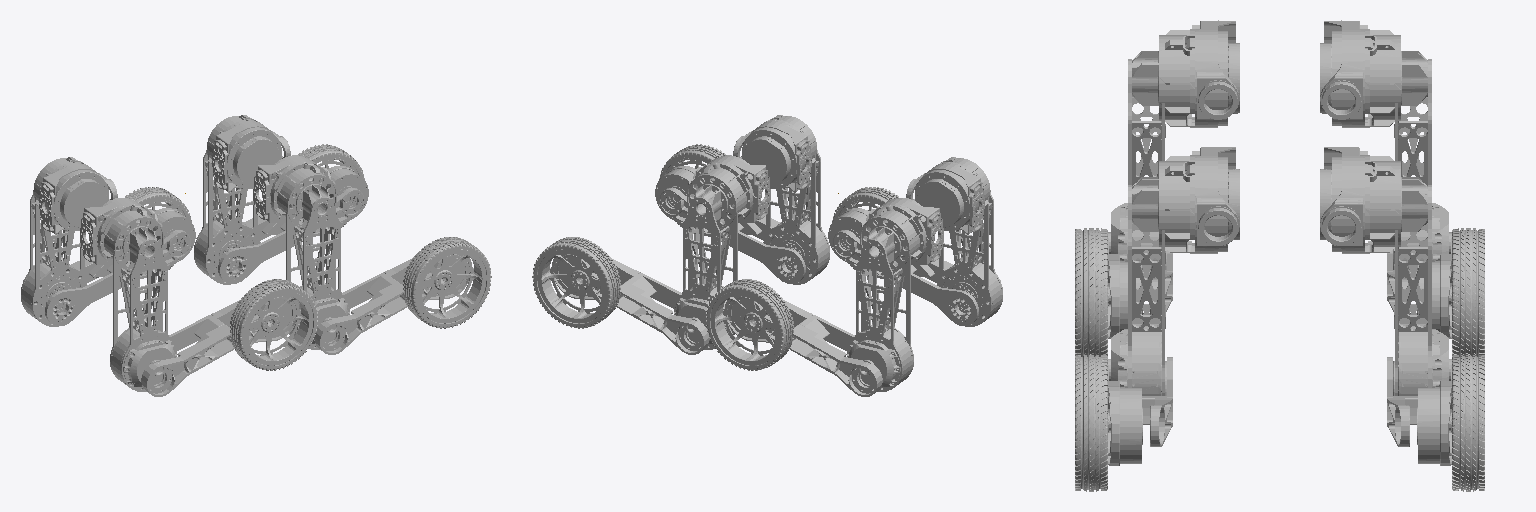
robot.urdf — wl4v3_description:
<?xml version="1.0" ?>
<!-- =================================================================================== -->
<!-- |    This document was autogenerated by xacro from src/robot_descriptions/wl4v3_description/xacro/robot.xacro | -->
<!-- |    EDITING THIS FILE BY HAND IS NOT RECOMMENDED                                 | -->
<!-- =================================================================================== -->
<robot name="wl4v3_description">
  <link name="base_link">
    <visual>
      <origin rpy="0 0 0" xyz="0 0 0"/>
      <geometry>
        <box size="0.001 0.001 0.001"/>
      </geometry>
    </visual>
    <inertial>
      <mass value="0.001"/>
      <origin rpy="0 0 0" xyz="0 0 0"/>
      <inertia ixx="0.0001" ixy="0" ixz="0" iyy="0.0001" iyz="0" izz="0.0001"/>
    </inertial>
  </link>
  <link name="F_base_link">
    <inertial>
      <origin rpy="0 0 0" xyz="0.023013 -0.0021227 -0.019381"/>
      <mass value="12.648"/>
      <inertia ixx="0.093399" ixy="-0.003506" ixz="-0.004065" iyy="0.228142" iyz="0.000651" izz="0.215983"/>
    </inertial>
    <visual>
      <origin rpy="0 0 0" xyz="0 0 0"/>
      <geometry>
        <mesh filename="../meshes/single_base_link.STL"/>
      </geometry>
      <material name="">
        <color rgba="0.75294 0.75294 0.75294 1"/>
      </material>
    </visual>
    <collision>
      <origin rpy="0 0 0" xyz="0 0 0"/>
      <geometry>
        <box size="0.375 0.15 0.19"/>
      </geometry>
    </collision>
    <collision>
      <origin rpy="0 0 0" xyz="0 0 -0.12"/>
      <geometry>
        <box size="0.31 0.12 0.04"/>
      </geometry>
    </collision>
  </link>
  <joint name="F_base_joint" type="fixed">
    <origin rpy="0 0 0" xyz="0.1875 0 0"/>
    <parent link="base_link"/>
    <child link="F_base_link"/>
    <axis xyz="0 0 0"/>
  </joint>
  <link name="FL_hip">
    <inertial>
      <origin rpy="0 0 0" xyz="-0.014145 6.1243E-05 0.0053964"/>
      <mass value="1.6985"/>
      <inertia ixx="0.003424" ixy="0" ixz="-0.000109" iyy="0.002403" iyz="-1E-06" izz="0.00188"/>
    </inertial>
    <visual>
      <origin rpy="0 0 0" xyz="0 0 0"/>
      <geometry>
        <mesh filename="../meshes/L_hip.STL"/>
      </geometry>
      <material name="">
        <color rgba="0.75294 0.75294 0.75294 1"/>
      </material>
    </visual>
  </link>
  <joint name="FL_hip_joint" type="revolute">
    <origin rpy="1.5708 0 1.5708" xyz="0 0.0775 0"/>
    <parent link="F_base_link"/>
    <child link="FL_hip"/>
    <axis xyz="0 0 1"/>
    <dynamics damping="0" friction="0"/>
    <limit effort="80" lower="-0.7853981633974483" upper="0.7853981633974483" velocity="15"/>
  </joint>
  <link name="FL_thigh">
    <inertial>
      <origin rpy="0 0 0" xyz="0.035356 0.0049257 -0.024803"/>
      <mass value="3.2263"/>
      <inertia ixx="0.005784" ixy="-0.001581" ixz="-0.002732" iyy="0.021768" iyz="-0.000297" izz="0.022595"/>
    </inertial>
    <visual>
      <origin rpy="0 0 0" xyz="0 0 0"/>
      <geometry>
        <mesh filename="../meshes/L_thigh.STL"/>
      </geometry>
      <material name="">
        <color rgba="0.75294 0.75294 0.75294 1"/>
      </material>
    </visual>
    <collision>
      <origin rpy="0 0 0.262" xyz="0.05 0 0"/>
      <geometry>
        <box size="0.21 0.11 0.05"/>
      </geometry>
    </collision>
  </link>
  <joint name="FL_thigh_joint" type="revolute">
    <origin rpy="-1.5708 0 -1.5708" xyz="0.09 0 0"/>
    <parent link="FL_hip"/>
    <child link="FL_thigh"/>
    <axis xyz="0 0 1"/>
    <dynamics damping="0" friction="0"/>
    <limit effort="80" lower="-1.5707963267948966" upper="3.141592653589793" velocity="15"/>
  </joint>
  <link name="FL_calf">
    <inertial>
      <origin rpy="0 0 0" xyz="0.11782 0.0051831 0.012648"/>
      <mass value="0.48008"/>
      <inertia ixx="0.000304" ixy="0.000116" ixz="-0.000582" iyy="0.005483" iyz="1.5E-05" izz="0.005541"/>
    </inertial>
    <visual>
      <origin rpy="0 0 0" xyz="0 0 0"/>
      <geometry>
        <mesh filename="../meshes/L_calf.STL"/>
      </geometry>
      <material name="">
        <color rgba="0.75294 0.75294 0.75294 1"/>
      </material>
    </visual>
    <collision>
      <origin rpy="0 0 -0.08" xyz="0.12 0 0"/>
      <geometry>
        <box size="0.3 0.05 0.02"/>
      </geometry>
    </collision>
  </link>
  <joint name="FL_calf_joint" type="revolute">
    <origin rpy="0 0 0" xyz="0.25 0 0"/>
    <parent link="FL_thigh"/>
    <child link="FL_calf"/>
    <axis xyz="0 0 1"/>
    <dynamics damping="0" friction="0"/>
    <limit effort="80" lower="-2.775" upper="-0.855" velocity="15"/>
  </joint>
  <link name="FL_foot">
    <inertial>
      <origin rpy="0 0 0" xyz="-1.1947E-05 -1.9864E-05 -0.0036281"/>
      <mass value="1.5215"/>
      <inertia ixx="0.002334" ixy="0" ixz="-1e-06" iyy="0.002334" iyz="-1e-06" izz="0.004146"/>
    </inertial>
    <visual>
      <origin rpy="0 0 0" xyz="0 0 0"/>
      <geometry>
        <mesh filename="../meshes/L_foot.STL"/>
      </geometry>
      <material name="">
        <color rgba="0.75294 0.75294 0.75294 1"/>
      </material>
    </visual>
    <collision>
      <origin rpy="0 0 0" xyz="0 0 0"/>
      <geometry>
        <cylinder length="0.04" radius="0.085"/>
      </geometry>
    </collision>
  </link>
  <joint name="FL_foot_joint" type="revolute">
    <origin rpy="0 0 0" xyz="0.25 0 0.06935"/>
    <parent link="FL_calf"/>
    <child link="FL_foot"/>
    <axis xyz="0 0 1"/>
    <dynamics damping="0" friction="0"/>
    <limit effort="20" lower="-1000000.0" upper="1000000.0" velocity="25"/>
  </joint>
  <link name="FR_hip">
    <inertial>
      <origin rpy="0 0 0" xyz="0.014145 6.1222E-05 0.0053964"/>
      <mass value="1.6985"/>
      <inertia ixx="0.003424" ixy="0" ixz="0.000109" iyy="0.002403" iyz="-1e-06" izz="0.00188"/>
    </inertial>
    <visual>
      <origin rpy="0 0 0" xyz="0 0 0"/>
      <geometry>
        <mesh filename="../meshes/R_hip.STL"/>
      </geometry>
      <material name="">
        <color rgba="0.75294 0.75294 0.75294 1"/>
      </material>
    </visual>
  </link>
  <joint name="FR_hip_joint" type="revolute">
    <origin rpy="1.5708 0 1.5708" xyz="0 -0.0775 0"/>
    <parent link="F_base_link"/>
    <child link="FR_hip"/>
    <axis xyz="0 0 1"/>
    <dynamics damping="0" friction="0"/>
    <limit effort="80" lower="-0.7853981633974483" upper="0.7853981633974483" velocity="15"/>
  </joint>
  <link name="FR_thigh">
    <inertial>
      <origin rpy="0 0 0" xyz="0.035356 0.0049257 0.024803"/>
      <mass value="3.2263"/>
      <inertia ixx="0.005784" ixy="-0.001581" ixz="0.002732" iyy="0.021768" iyz="0.000297" izz="0.022595"/>
    </inertial>
    <visual>
      <origin rpy="0 0 0" xyz="0 0 0"/>
      <geometry>
        <mesh filename="../meshes/R_thigh.STL"/>
      </geometry>
      <material name="">
        <color rgba="0.75294 0.75294 0.75294 1"/>
      </material>
    </visual>
    <collision>
      <origin rpy="0 0 0.262" xyz="0.05 0 0"/>
      <geometry>
        <box size="0.21 0.11 0.05"/>
      </geometry>
    </collision>
  </link>
  <joint name="FR_thigh_joint" type="revolute">
    <origin rpy="-1.5708 0 -1.5708" xyz="-0.09 0 0"/>
    <parent link="FR_hip"/>
    <child link="FR_thigh"/>
    <axis xyz="0 0 1"/>
    <dynamics damping="0" friction="0"/>
    <limit effort="80" lower="-1.5707963267948966" upper="3.141592653589793" velocity="15"/>
  </joint>
  <link name="FR_calf">
    <inertial>
      <origin rpy="0 0 0" xyz="0.11782 0.0051831 -0.012648"/>
      <mass value="0.48008"/>
      <inertia ixx="0.000304" ixy="0.000116" ixz="0.000582" iyy="0.005483" iyz="-1.5e-05" izz="0.005541"/>
    </inertial>
    <visual>
      <origin rpy="0 0 0" xyz="0 0 0"/>
      <geometry>
        <mesh filename="../meshes/R_calf.STL"/>
      </geometry>
      <material name="">
        <color rgba="0.75294 0.75294 0.75294 1"/>
      </material>
    </visual>
    <collision>
      <origin rpy="0 0 -0.08" xyz="0.12 0 0"/>
      <geometry>
        <box size="0.3 0.05 0.02"/>
      </geometry>
    </collision>
  </link>
  <joint name="FR_calf_joint" type="revolute">
    <origin rpy="0 0 0" xyz="0.25 0 0"/>
    <parent link="FR_thigh"/>
    <child link="FR_calf"/>
    <axis xyz="0 0 1"/>
    <dynamics damping="0" friction="0"/>
    <limit effort="80" lower="-2.775" upper="-0.855" velocity="15"/>
  </joint>
  <link name="FR_foot">
    <inertial>
      <origin rpy="0 0 0" xyz="-1.1939E-05 -1.986E-05 0.0036281"/>
      <mass value="1.5215"/>
      <inertia ixx="0.002334" ixy="0" ixz="1e-06" iyy="0.002334" iyz="1e-06" izz="0.004146"/>
    </inertial>
    <visual>
      <origin rpy="0 0 0" xyz="0 0 0"/>
      <geometry>
        <mesh filename="../meshes/R_foot.STL"/>
      </geometry>
      <material name="">
        <color rgba="0.75294 0.75294 0.75294 1"/>
      </material>
    </visual>
    <collision>
      <origin rpy="0 0 0" xyz="0 0 0"/>
      <geometry>
        <cylinder length="0.04" radius="0.085"/>
      </geometry>
    </collision>
  </link>
  <joint name="FR_foot_joint" type="revolute">
    <origin rpy="0 0 0" xyz="0.25 0 -0.06935"/>
    <parent link="FR_calf"/>
    <child link="FR_foot"/>
    <axis xyz="0 0 1"/>
    <dynamics damping="0" friction="0"/>
    <limit effort="20" lower="-1000000.0" upper="1000000.0" velocity="25"/>
  </joint>
  <link name="R_base_link">
    <inertial>
      <origin rpy="0 0 0" xyz="0.023013 -0.0021227 -0.019381"/>
      <mass value="12.648"/>
      <inertia ixx="0.093399" ixy="-0.003506" ixz="-0.004065" iyy="0.228142" iyz="0.000651" izz="0.215983"/>
    </inertial>
    <visual>
      <origin rpy="0 0 0" xyz="0 0 0"/>
      <geometry>
        <mesh filename="../meshes/single_base_link.STL"/>
      </geometry>
      <material name="">
        <color rgba="0.75294 0.75294 0.75294 1"/>
      </material>
    </visual>
    <collision>
      <origin rpy="0 0 0" xyz="0 0 0"/>
      <geometry>
        <box size="0.375 0.15 0.19"/>
      </geometry>
    </collision>
    <collision>
      <origin rpy="0 0 0" xyz="0 0 -0.12"/>
      <geometry>
        <box size="0.31 0.12 0.04"/>
      </geometry>
    </collision>
  </link>
  <joint name="R_base_joint" type="fixed">
    <origin rpy="0 0 0" xyz="-0.1875 0 0"/>
    <parent link="base_link"/>
    <child link="R_base_link"/>
    <axis xyz="0 0 0"/>
  </joint>
  <link name="RL_hip">
    <inertial>
      <origin rpy="0 0 0" xyz="-0.014145 6.1243E-05 0.0053964"/>
      <mass value="1.6985"/>
      <inertia ixx="0.003424" ixy="0" ixz="-0.000109" iyy="0.002403" iyz="-1E-06" izz="0.00188"/>
    </inertial>
    <visual>
      <origin rpy="0 0 0" xyz="0 0 0"/>
      <geometry>
        <mesh filename="../meshes/L_hip.STL"/>
      </geometry>
      <material name="">
        <color rgba="0.75294 0.75294 0.75294 1"/>
      </material>
    </visual>
  </link>
  <joint name="RL_hip_joint" type="revolute">
    <origin rpy="1.5708 0 1.5708" xyz="0 0.0775 0"/>
    <parent link="R_base_link"/>
    <child link="RL_hip"/>
    <axis xyz="0 0 1"/>
    <dynamics damping="0" friction="0"/>
    <limit effort="80" lower="-0.7853981633974483" upper="0.7853981633974483" velocity="15"/>
  </joint>
  <link name="RL_thigh">
    <inertial>
      <origin rpy="0 0 0" xyz="0.035356 0.0049257 -0.024803"/>
      <mass value="3.2263"/>
      <inertia ixx="0.005784" ixy="-0.001581" ixz="-0.002732" iyy="0.021768" iyz="-0.000297" izz="0.022595"/>
    </inertial>
    <visual>
      <origin rpy="0 0 0" xyz="0 0 0"/>
      <geometry>
        <mesh filename="../meshes/L_thigh.STL"/>
      </geometry>
      <material name="">
        <color rgba="0.75294 0.75294 0.75294 1"/>
      </material>
    </visual>
    <collision>
      <origin rpy="0 0 0.262" xyz="0.05 0 0"/>
      <geometry>
        <box size="0.21 0.11 0.05"/>
      </geometry>
    </collision>
  </link>
  <joint name="RL_thigh_joint" type="revolute">
    <origin rpy="-1.5708 0 -1.5708" xyz="0.09 0 0"/>
    <parent link="RL_hip"/>
    <child link="RL_thigh"/>
    <axis xyz="0 0 1"/>
    <dynamics damping="0" friction="0"/>
    <limit effort="80" lower="-1.5707963267948966" upper="3.141592653589793" velocity="15"/>
  </joint>
  <link name="RL_calf">
    <inertial>
      <origin rpy="0 0 0" xyz="0.11782 0.0051831 0.012648"/>
      <mass value="0.48008"/>
      <inertia ixx="0.000304" ixy="0.000116" ixz="-0.000582" iyy="0.005483" iyz="1.5E-05" izz="0.005541"/>
    </inertial>
    <visual>
      <origin rpy="0 0 0" xyz="0 0 0"/>
      <geometry>
        <mesh filename="../meshes/L_calf.STL"/>
      </geometry>
      <material name="">
        <color rgba="0.75294 0.75294 0.75294 1"/>
      </material>
    </visual>
    <collision>
      <origin rpy="0 0 -0.08" xyz="0.12 0 0"/>
      <geometry>
        <box size="0.3 0.05 0.02"/>
      </geometry>
    </collision>
  </link>
  <joint name="RL_calf_joint" type="revolute">
    <origin rpy="0 0 0" xyz="0.25 0 0"/>
    <parent link="RL_thigh"/>
    <child link="RL_calf"/>
    <axis xyz="0 0 1"/>
    <dynamics damping="0" friction="0"/>
    <limit effort="80" lower="-2.775" upper="-0.855" velocity="15"/>
  </joint>
  <link name="RL_foot">
    <inertial>
      <origin rpy="0 0 0" xyz="-1.1947E-05 -1.9864E-05 -0.0036281"/>
      <mass value="1.5215"/>
      <inertia ixx="0.002334" ixy="0" ixz="-1e-06" iyy="0.002334" iyz="-1e-06" izz="0.004146"/>
    </inertial>
    <visual>
      <origin rpy="0 0 0" xyz="0 0 0"/>
      <geometry>
        <mesh filename="../meshes/L_foot.STL"/>
      </geometry>
      <material name="">
        <color rgba="0.75294 0.75294 0.75294 1"/>
      </material>
    </visual>
    <collision>
      <origin rpy="0 0 0" xyz="0 0 0"/>
      <geometry>
        <cylinder length="0.04" radius="0.085"/>
      </geometry>
    </collision>
  </link>
  <joint name="RL_foot_joint" type="revolute">
    <origin rpy="0 0 0" xyz="0.25 0 0.06935"/>
    <parent link="RL_calf"/>
    <child link="RL_foot"/>
    <axis xyz="0 0 1"/>
    <dynamics damping="0" friction="0"/>
    <limit effort="20" lower="-1000000.0" upper="1000000.0" velocity="25"/>
  </joint>
  <link name="RR_hip">
    <inertial>
      <origin rpy="0 0 0" xyz="0.014145 6.1222E-05 0.0053964"/>
      <mass value="1.6985"/>
      <inertia ixx="0.003424" ixy="0" ixz="0.000109" iyy="0.002403" iyz="-1e-06" izz="0.00188"/>
    </inertial>
    <visual>
      <origin rpy="0 0 0" xyz="0 0 0"/>
      <geometry>
        <mesh filename="../meshes/R_hip.STL"/>
      </geometry>
      <material name="">
        <color rgba="0.75294 0.75294 0.75294 1"/>
      </material>
    </visual>
  </link>
  <joint name="RR_hip_joint" type="revolute">
    <origin rpy="1.5708 0 1.5708" xyz="0 -0.0775 0"/>
    <parent link="R_base_link"/>
    <child link="RR_hip"/>
    <axis xyz="0 0 1"/>
    <dynamics damping="0" friction="0"/>
    <limit effort="80" lower="-0.7853981633974483" upper="0.7853981633974483" velocity="15"/>
  </joint>
  <link name="RR_thigh">
    <inertial>
      <origin rpy="0 0 0" xyz="0.035356 0.0049257 0.024803"/>
      <mass value="3.2263"/>
      <inertia ixx="0.005784" ixy="-0.001581" ixz="0.002732" iyy="0.021768" iyz="0.000297" izz="0.022595"/>
    </inertial>
    <visual>
      <origin rpy="0 0 0" xyz="0 0 0"/>
      <geometry>
        <mesh filename="../meshes/R_thigh.STL"/>
      </geometry>
      <material name="">
        <color rgba="0.75294 0.75294 0.75294 1"/>
      </material>
    </visual>
    <collision>
      <origin rpy="0 0 0.262" xyz="0.05 0 0"/>
      <geometry>
        <box size="0.21 0.11 0.05"/>
      </geometry>
    </collision>
  </link>
  <joint name="RR_thigh_joint" type="revolute">
    <origin rpy="-1.5708 0 -1.5708" xyz="-0.09 0 0"/>
    <parent link="RR_hip"/>
    <child link="RR_thigh"/>
    <axis xyz="0 0 1"/>
    <dynamics damping="0" friction="0"/>
    <limit effort="80" lower="-1.5707963267948966" upper="3.141592653589793" velocity="15"/>
  </joint>
  <link name="RR_calf">
    <inertial>
      <origin rpy="0 0 0" xyz="0.11782 0.0051831 -0.012648"/>
      <mass value="0.48008"/>
      <inertia ixx="0.000304" ixy="0.000116" ixz="0.000582" iyy="0.005483" iyz="-1.5e-05" izz="0.005541"/>
    </inertial>
    <visual>
      <origin rpy="0 0 0" xyz="0 0 0"/>
      <geometry>
        <mesh filename="../meshes/R_calf.STL"/>
      </geometry>
      <material name="">
        <color rgba="0.75294 0.75294 0.75294 1"/>
      </material>
    </visual>
    <collision>
      <origin rpy="0 0 -0.08" xyz="0.12 0 0"/>
      <geometry>
        <box size="0.3 0.05 0.02"/>
      </geometry>
    </collision>
  </link>
  <joint name="RR_calf_joint" type="revolute">
    <origin rpy="0 0 0" xyz="0.25 0 0"/>
    <parent link="RR_thigh"/>
    <child link="RR_calf"/>
    <axis xyz="0 0 1"/>
    <dynamics damping="0" friction="0"/>
    <limit effort="80" lower="-2.775" upper="-0.855" velocity="15"/>
  </joint>
  <link name="RR_foot">
    <inertial>
      <origin rpy="0 0 0" xyz="-1.1939E-05 -1.986E-05 0.0036281"/>
      <mass value="1.5215"/>
      <inertia ixx="0.002334" ixy="0" ixz="1e-06" iyy="0.002334" iyz="1e-06" izz="0.004146"/>
    </inertial>
    <visual>
      <origin rpy="0 0 0" xyz="0 0 0"/>
      <geometry>
        <mesh filename="../meshes/R_foot.STL"/>
      </geometry>
      <material name="">
        <color rgba="0.75294 0.75294 0.75294 1"/>
      </material>
    </visual>
    <collision>
      <origin rpy="0 0 0" xyz="0 0 0"/>
      <geometry>
        <cylinder length="0.04" radius="0.085"/>
      </geometry>
    </collision>
  </link>
  <joint name="RR_foot_joint" type="revolute">
    <origin rpy="0 0 0" xyz="0.25 0 -0.06935"/>
    <parent link="RR_calf"/>
    <child link="RR_foot"/>
    <axis xyz="0 0 1"/>
    <dynamics damping="0" friction="0"/>
    <limit effort="20" lower="-1000000.0" upper="1000000.0" velocity="25"/>
  </joint>
</robot>

--- Render facts (derived) ---
3 views of the same robot in one strip: view 1: azimuth 30°, elevation 25°; view 2: azimuth 150°, elevation 25°; view 3: azimuth 270°, elevation 25° (orthographic).
Robot: wl4v3_description — 19 links, 18 joints (16 revolute, 2 fixed); root link base_link; default pose: all joints at 0 but 4 set to mid-range because 0 is outside their limits (FL_calf_joint = -1.81, FR_calf_joint = -1.81, RL_calf_joint = -1.81, RR_calf_joint = -1.81).
Visible links, largest first — view 1: RR_thigh, FR_thigh, FR_foot, RR_foot, RR_calf, FR_calf, FL_hip, RL_hip, FL_thigh, RL_thigh, FL_calf, RL_calf (+4 smaller); view 2: RL_thigh, FL_thigh, FL_foot, RL_foot, RL_calf, FL_calf, FR_hip, RR_hip, FR_thigh, RR_thigh, FR_calf, RR_calf (+4 smaller); view 3: FL_thigh, FR_thigh, FL_hip, FR_hip, RL_hip, RR_hip, RL_thigh, RR_thigh, FL_foot, FR_foot, FL_calf, FR_calf (+4 smaller).
Boxes of the visible links, bbox=[...] form: RR_thigh: bbox=[110, 218, 176, 391]; FR_thigh: bbox=[286, 176, 349, 349]; FR_foot: bbox=[403, 237, 491, 328]; RR_foot: bbox=[230, 279, 317, 370]; RR_calf: bbox=[141, 296, 298, 396]; FR_calf: bbox=[314, 254, 471, 354]; FL_hip: bbox=[207, 115, 290, 192]; RL_hip: bbox=[33, 157, 117, 234]; FL_thigh: bbox=[194, 150, 260, 284]; RL_thigh: bbox=[21, 192, 86, 326]; FL_calf: bbox=[218, 166, 368, 283]; RL_calf: bbox=[45, 208, 195, 325]; RL_thigh: bbox=[847, 218, 913, 391]; FL_thigh: bbox=[674, 176, 737, 349]; FL_foot: bbox=[532, 237, 620, 328]; RL_foot: bbox=[706, 279, 793, 370]; RL_calf: bbox=[725, 296, 882, 396]; FL_calf: bbox=[552, 254, 709, 354]; FR_hip: bbox=[733, 115, 816, 192]; RR_hip: bbox=[906, 157, 990, 234]; FR_thigh: bbox=[763, 150, 829, 284]; RR_thigh: bbox=[937, 192, 1002, 326]; FR_calf: bbox=[655, 166, 805, 283]; RR_calf: bbox=[828, 208, 978, 325]; FL_thigh: bbox=[1394, 177, 1451, 395]; FR_thigh: bbox=[1108, 177, 1165, 395]; FL_hip: bbox=[1320, 147, 1400, 253]; FR_hip: bbox=[1159, 147, 1239, 253]; RL_hip: bbox=[1320, 20, 1400, 127]; RR_hip: bbox=[1159, 20, 1239, 127]; RL_thigh: bbox=[1394, 51, 1451, 269]; RR_thigh: bbox=[1108, 51, 1165, 269]; FL_foot: bbox=[1449, 355, 1484, 491]; FR_foot: bbox=[1075, 355, 1110, 491]; FL_calf: bbox=[1387, 357, 1451, 465]; FR_calf: bbox=[1108, 357, 1172, 465].
Bounding box of the posed robot: 0.7751 × 0.5152 × 0.352 m (x, y, z).
16 mesh visuals loaded from 9 distinct referenced files (8 binary STL); not drawn: 2 (reference not matched to a file when rendering).
